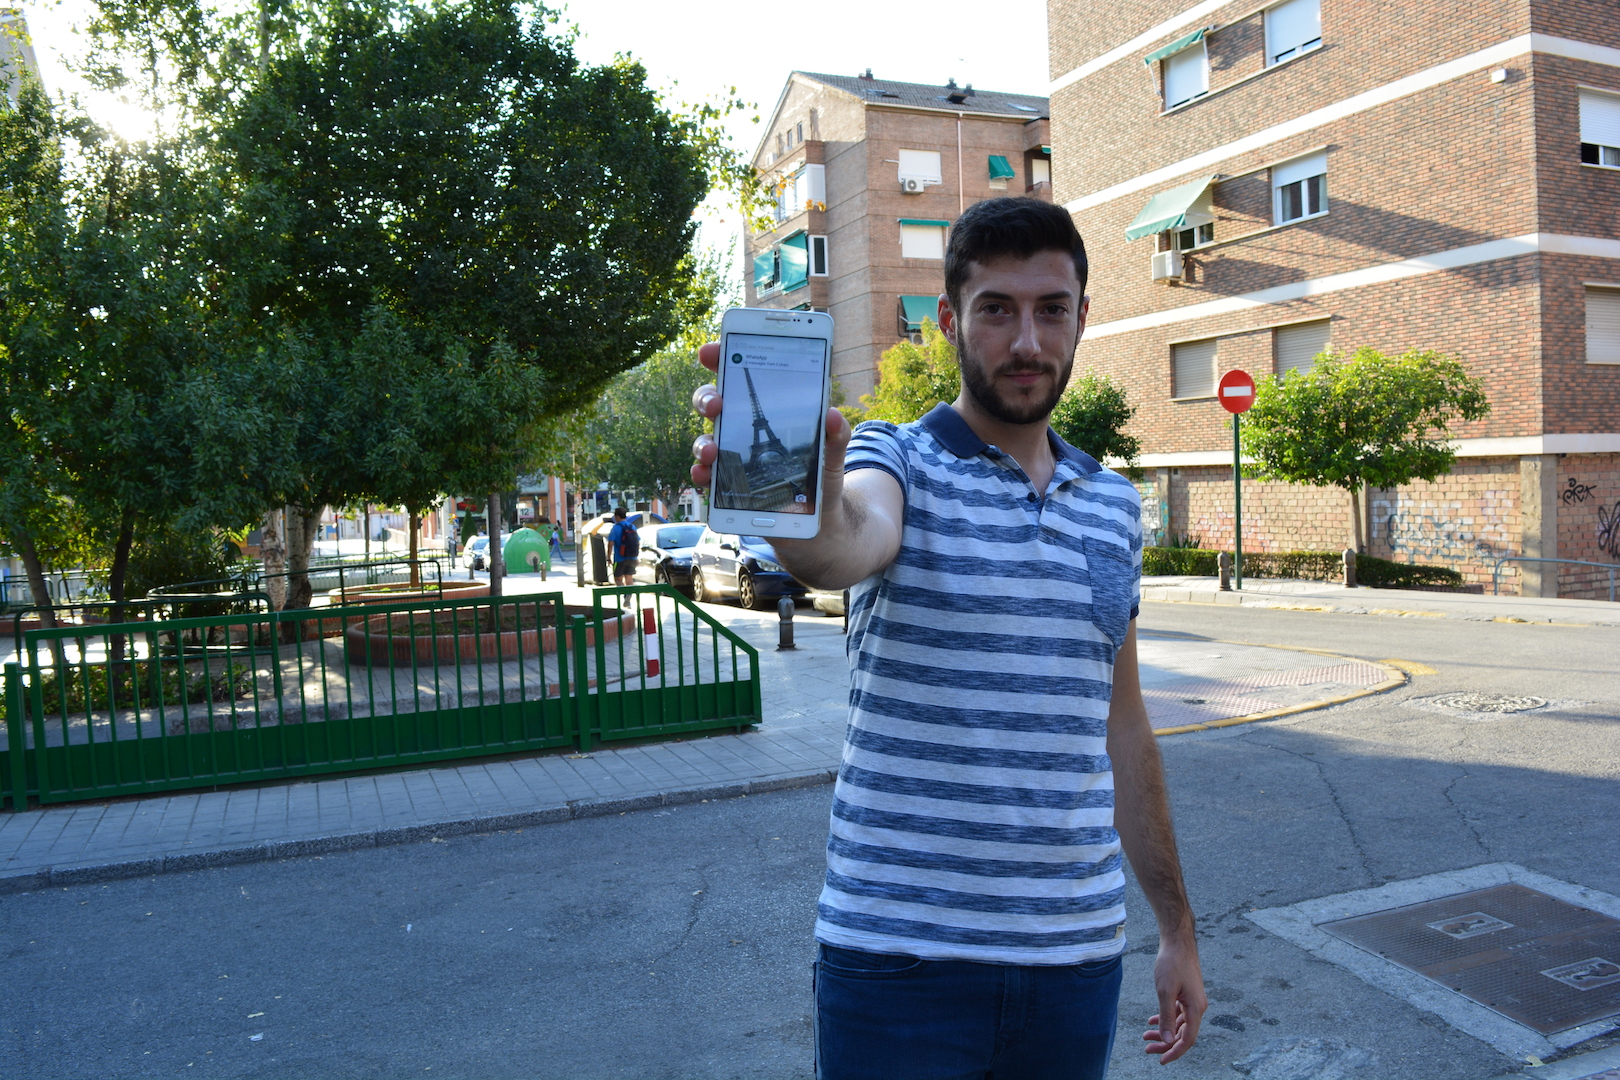smartphone: (706, 304, 835, 540)
